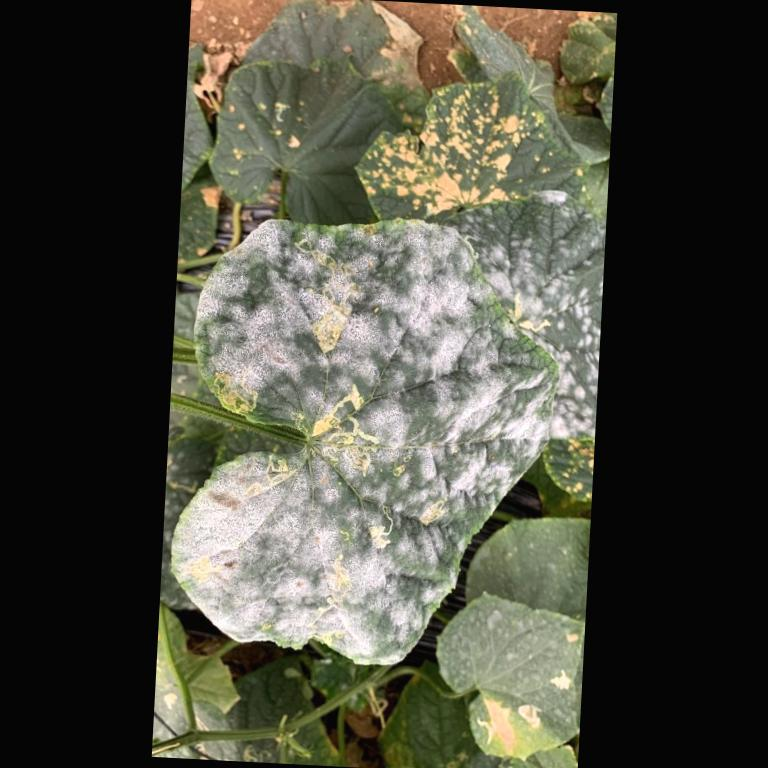powdery-mildew: (211, 475, 421, 634), (231, 240, 430, 398), (424, 308, 516, 500)
